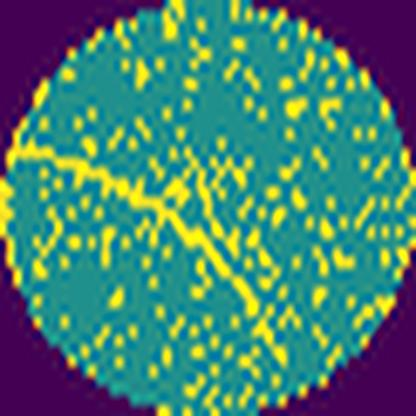Scratch: (0, 126, 306, 371)
